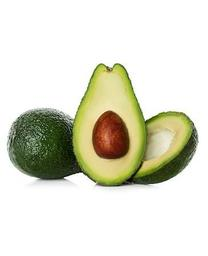avocado: (71, 62, 148, 186), (7, 107, 90, 180), (125, 112, 198, 184)
